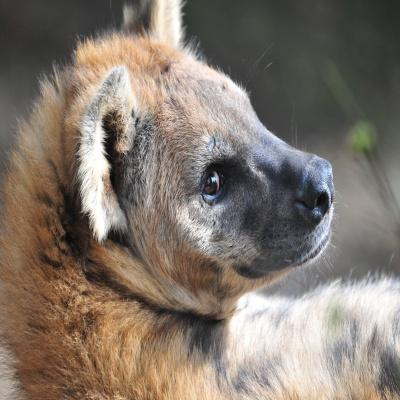hyenas: (0, 4, 377, 400)
